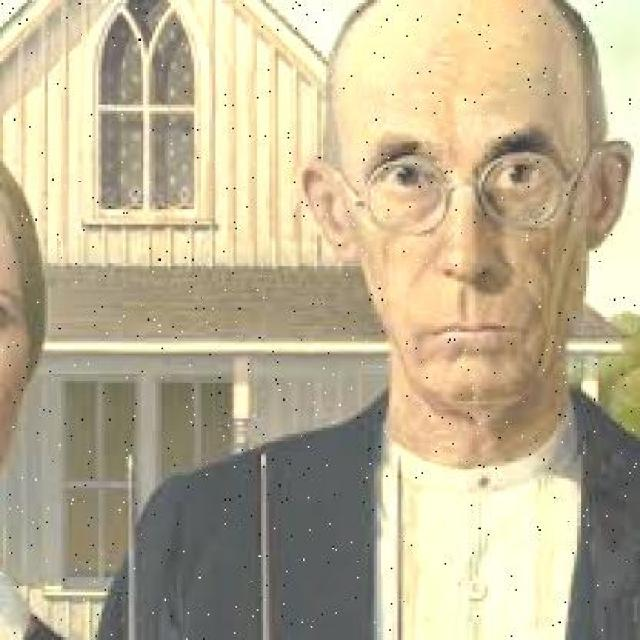glasses: (348, 152, 586, 237)
